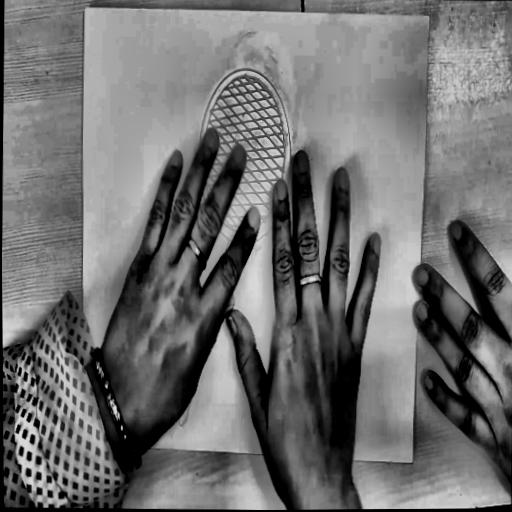badminton: (148, 61, 348, 444)
bottom_left: (83, 435, 89, 445)
bottom_right: (409, 456, 416, 469)
top_left: (82, 3, 88, 14)
top_right: (426, 11, 434, 24)
